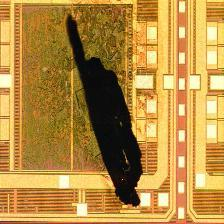PARTICLE: (62, 12, 149, 213)
